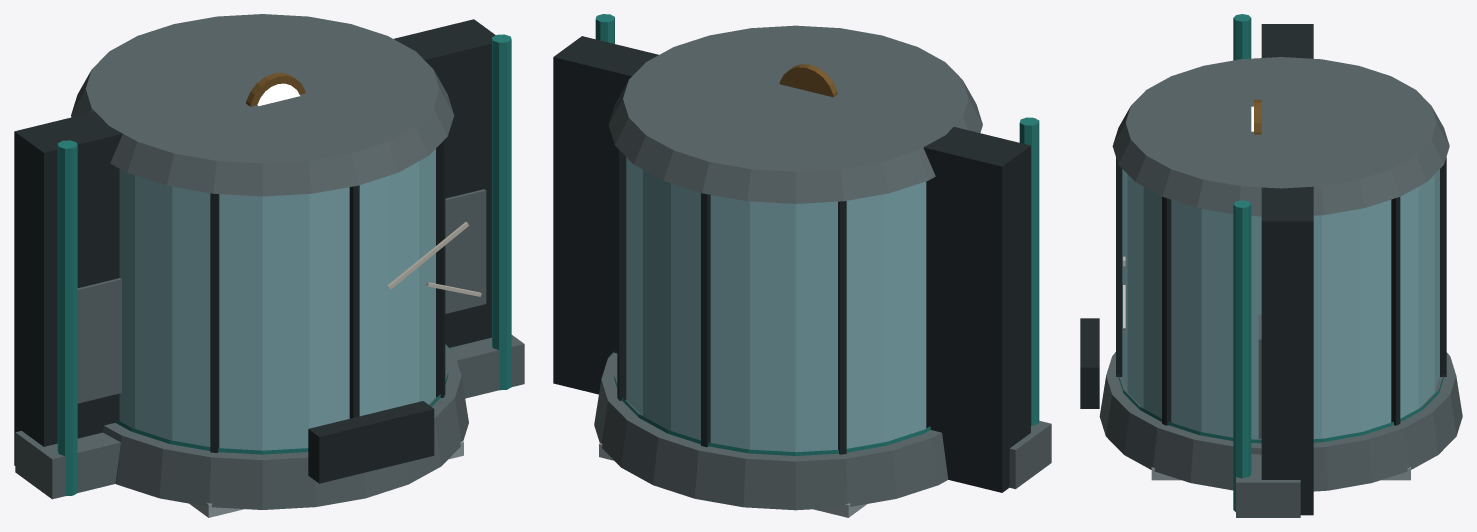
The model's file is dress_lab.glb.
3 renders of one model, left to right at view 1: azimuth 30°, elevation 25°; view 2: azimuth 150°, elevation 25°; view 3: azimuth 270°, elevation 25°, orthographic. The views are drawn at different scales.
Visible parts, largest first — view 1: lm_origin_m, lm_screens_m; view 2: lm_origin_m, lm_screens_m; view 3: lm_origin_m, lm_screens_m.
Boxes of the visible parts, x1,y1,x2,y2 form: lm_origin_m: [71, 14, 481, 509]; lm_screens_m: [14, 19, 524, 499]; lm_origin_m: [594, 25, 982, 510]; lm_screens_m: [553, 14, 1051, 492]; lm_origin_m: [1080, 57, 1462, 491]; lm_screens_m: [1233, 14, 1313, 517].
Bounding box in the file's own units: 7.4 × 5.86 × 5.9.
